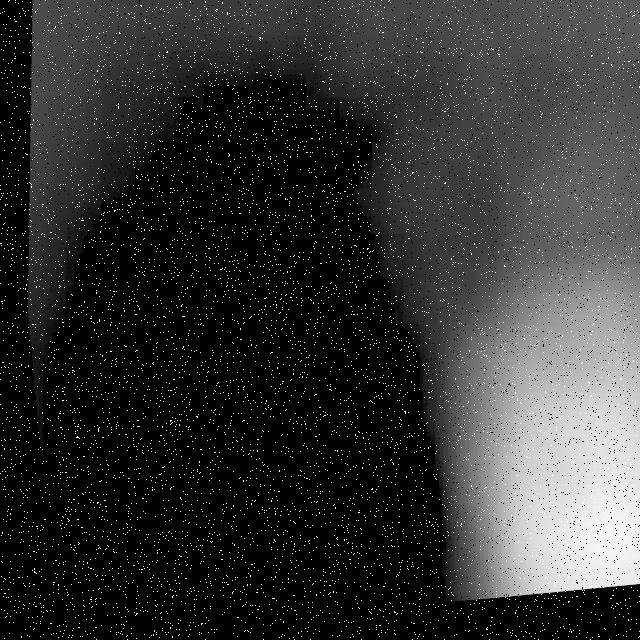person: (405, 138, 640, 611)
